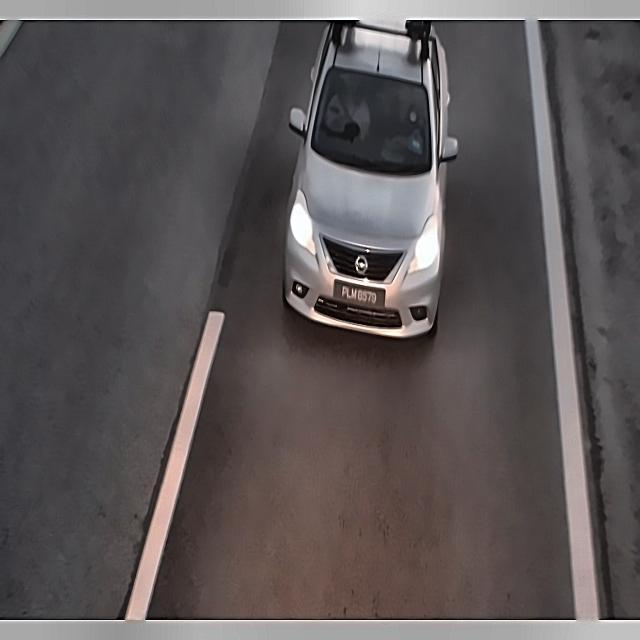car: (331, 276, 387, 315)
